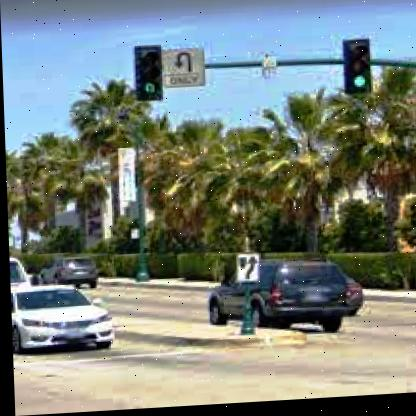U-turn: (165, 46, 208, 83)
